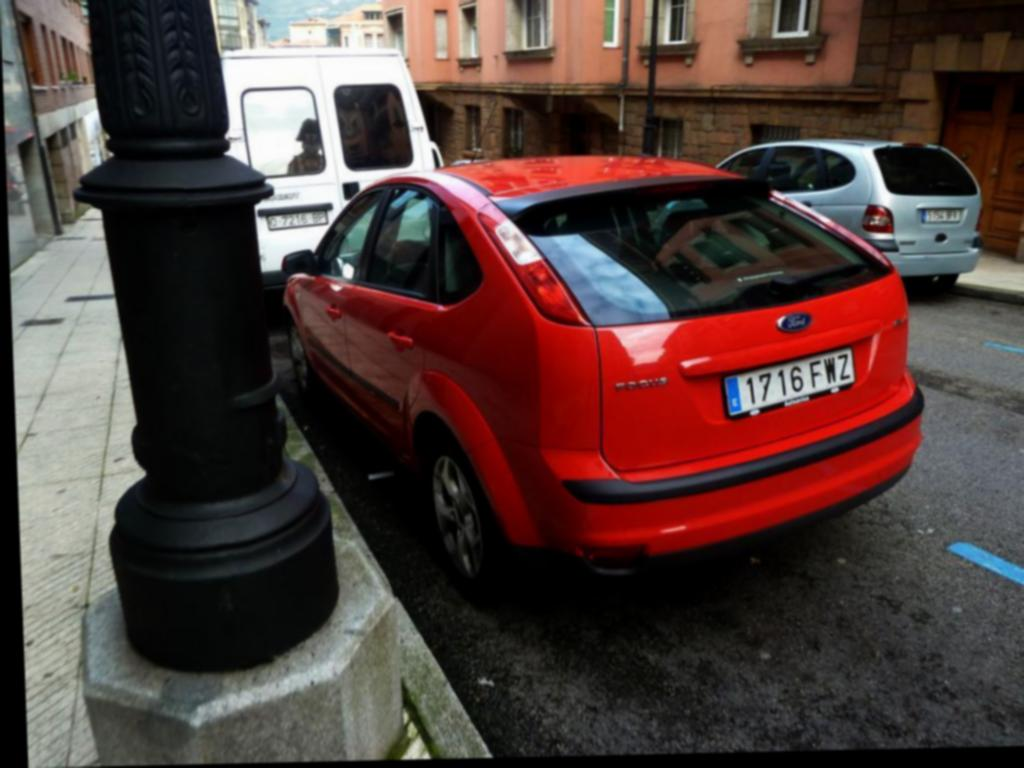License_Plate: (719, 343, 858, 422), (265, 209, 330, 230), (922, 209, 958, 222)
